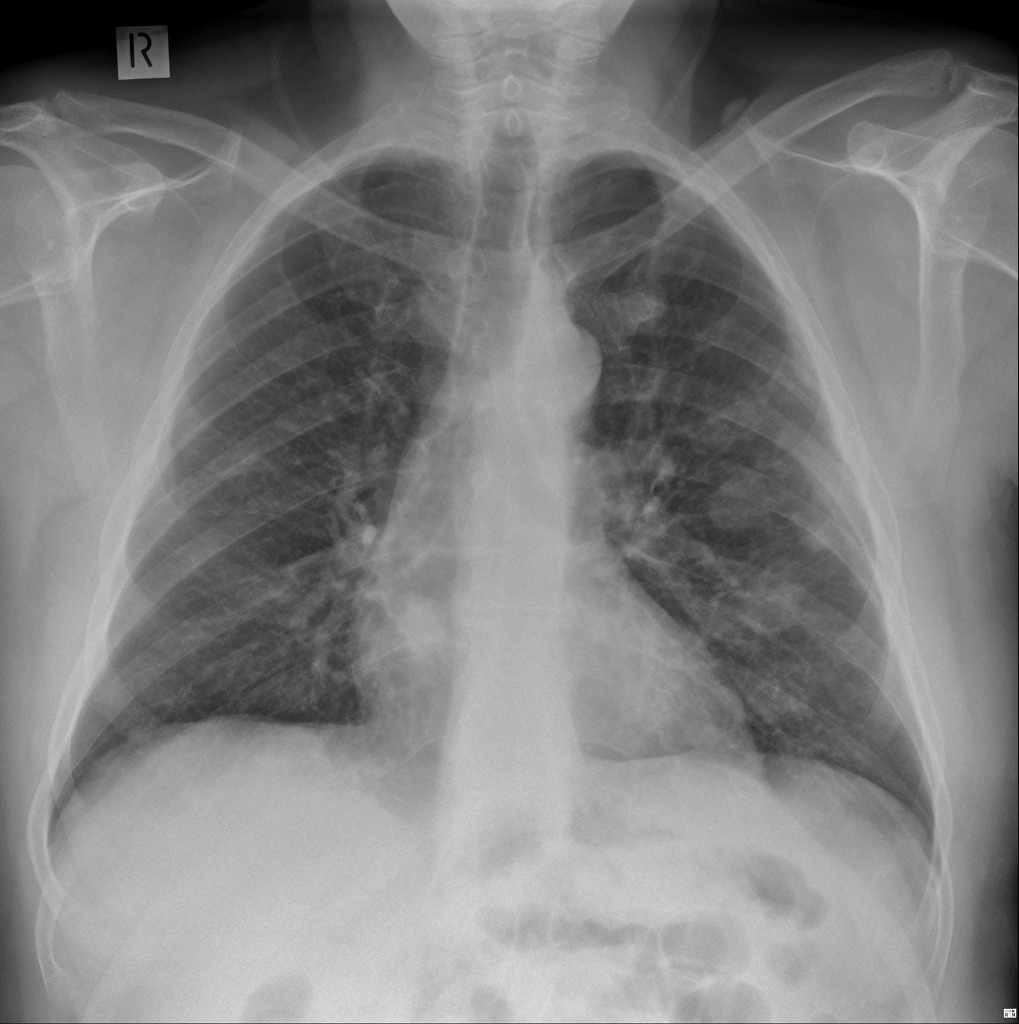cancer: (83, 245, 440, 834)
